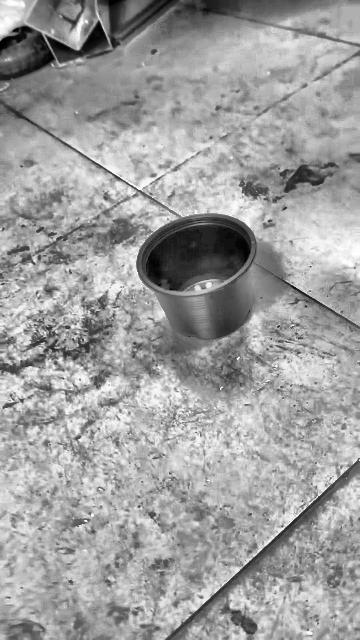pot: (136, 214, 257, 339)
